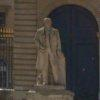Statue: (24, 13, 77, 73)
